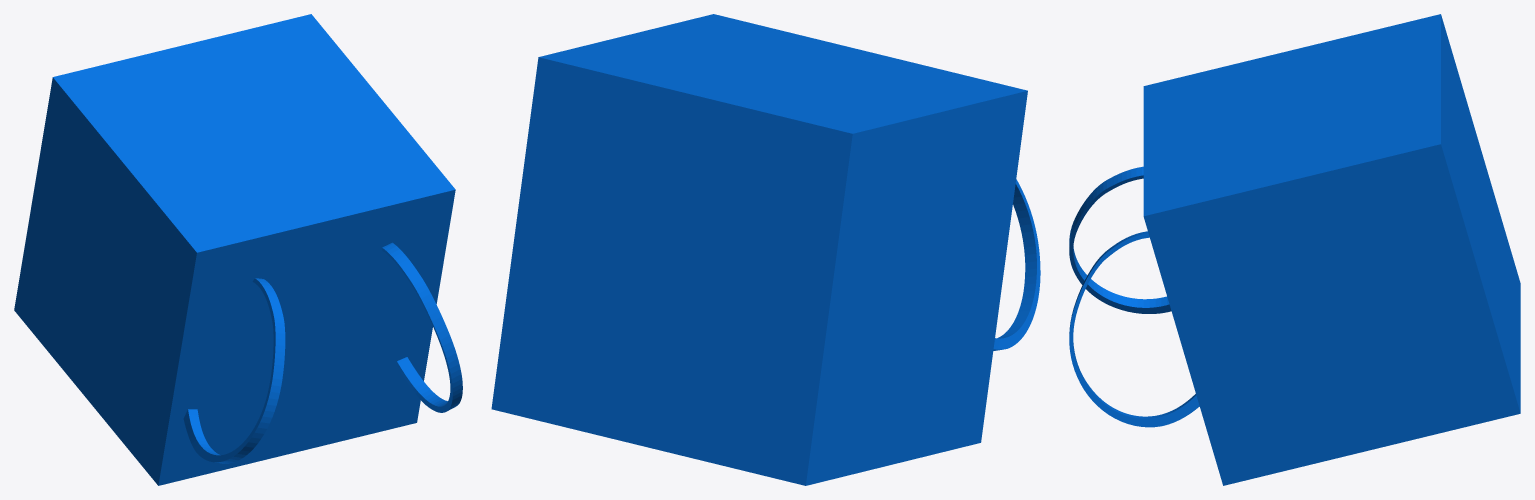
The model's file is backPack.fbx.
The picture shows the model from 3 angles, left to right: view 1: azimuth 30°, elevation 25°; view 2: azimuth 150°, elevation 25°; view 3: azimuth 270°, elevation 25°; orthographic projection. The views are drawn at different scales.
Visible parts, largest first — view 1: BackPack; view 2: BackPack; view 3: BackPack.
Part boxes in pixels (left/top/right/bottom): BackPack: left=14, top=14, right=462, bottom=485; BackPack: left=491, top=14, right=1040, bottom=485; BackPack: left=1069, top=14, right=1520, bottom=485.
Size of the model in its own units: 100 by 122 by 147.
